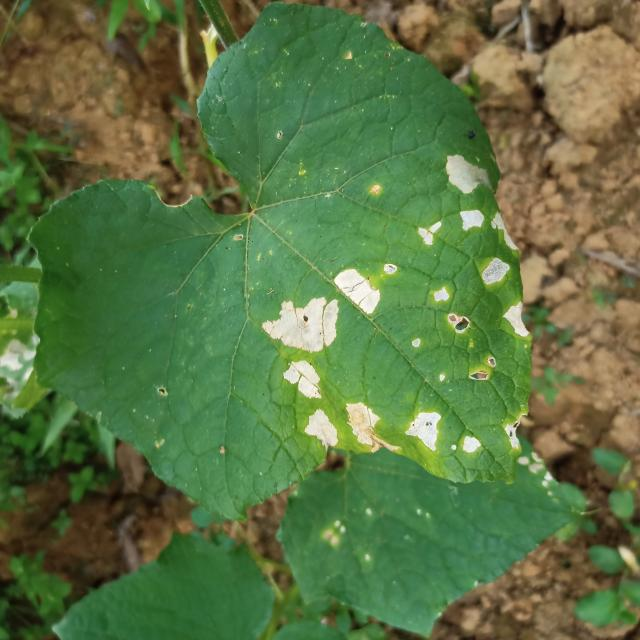disease_cucumber: (262, 270, 382, 352), (418, 154, 485, 246), (405, 410, 483, 458), (302, 403, 381, 450), (485, 211, 518, 293), (430, 286, 470, 337), (283, 360, 324, 405), (504, 300, 530, 339)
